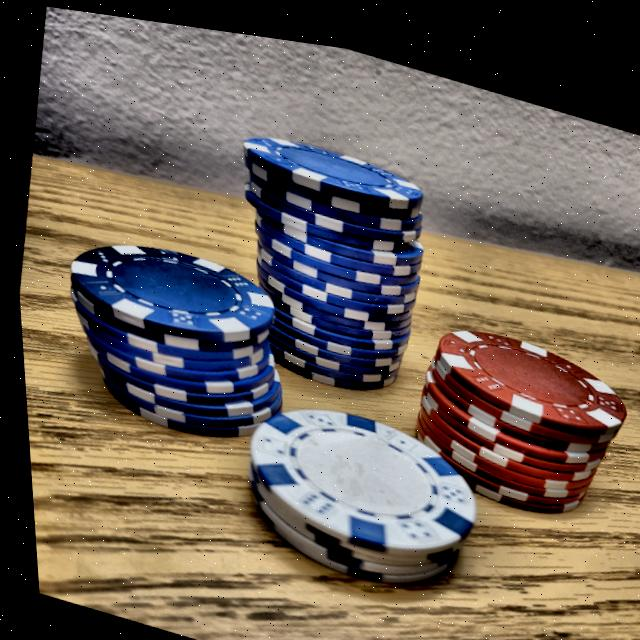Chip: (211, 346, 510, 634), (198, 103, 461, 421), (36, 185, 309, 475), (388, 272, 640, 544)
